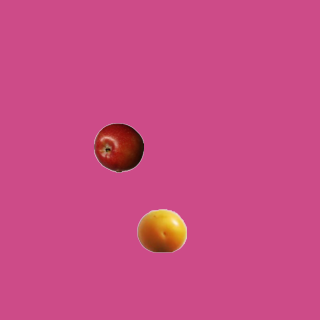Apple Braeburn: (93, 122, 143, 172)
Cherry Wax Yellow: (136, 205, 186, 255)
